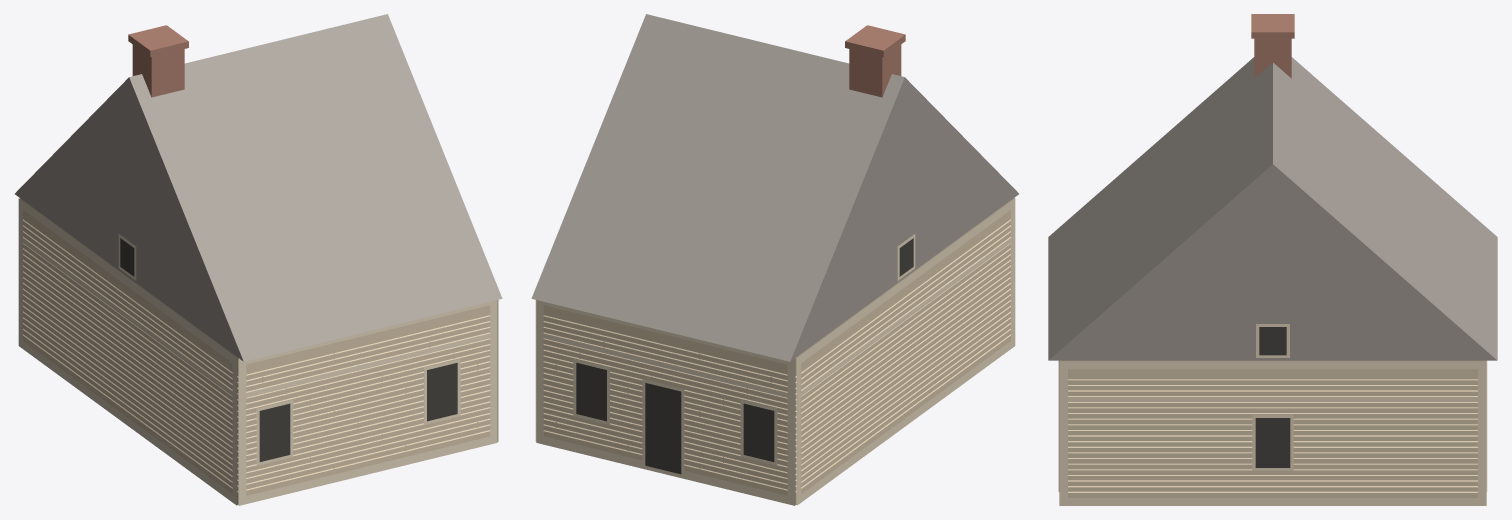
Rendered from recon_1835_south_d6_031__inferred_1835.glb.
The picture shows the model from 3 angles, left to right: view 1: azimuth 30°, elevation 25°; view 2: azimuth 150°, elevation 25°; view 3: azimuth 270°, elevation 25°; orthographic projection. The views are drawn at different scales.
Visible parts, largest first — view 1: recon_1835_south_d6_031__inferred_1835; view 2: recon_1835_south_d6_031__inferred_1835; view 3: recon_1835_south_d6_031__inferred_1835.
Part boxes in pixels (x1,y1,x2,y2): recon_1835_south_d6_031__inferred_1835: [15, 14, 502, 505]; recon_1835_south_d6_031__inferred_1835: [531, 14, 1018, 505]; recon_1835_south_d6_031__inferred_1835: [1048, 14, 1497, 505].
Bounding box in the file's own units: 6.69 × 9.27 × 10.13.
